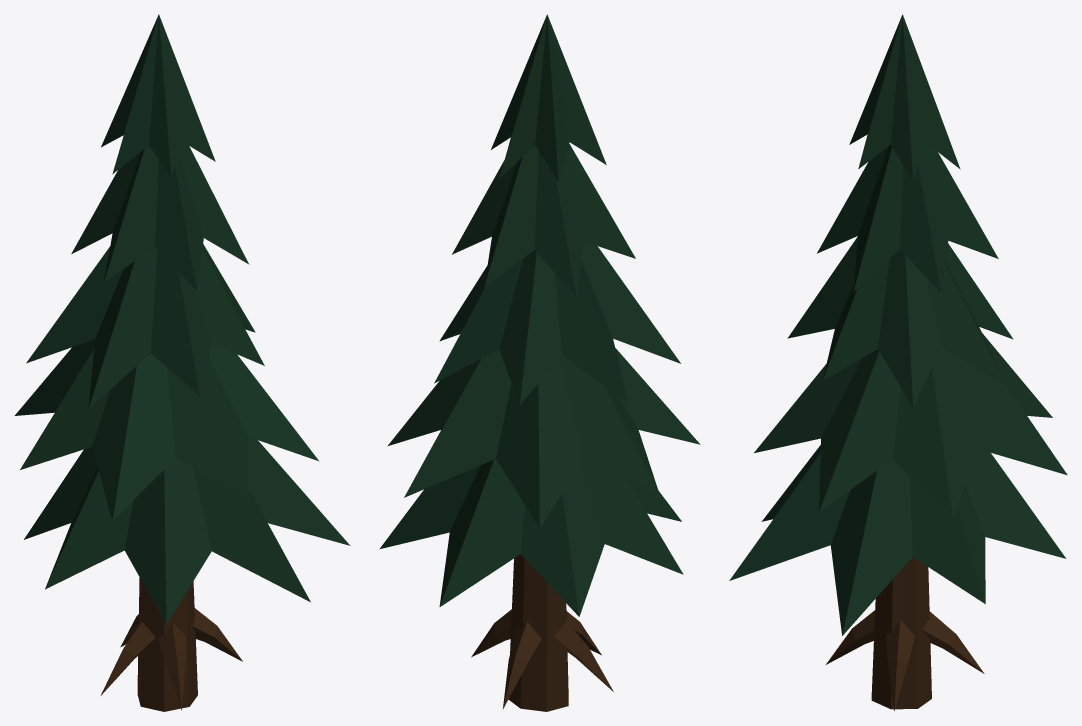
File: pino_c.fbx
3 renders of one model, left to right at view 1: azimuth 30°, elevation 25°; view 2: azimuth 150°, elevation 25°; view 3: azimuth 270°, elevation 25°, orthographic.
Visible parts, largest first — view 1: pino_c; view 2: pino_c; view 3: pino_c.
Part boxes in pixels (x1=…): pino_c: x1=14, y1=14, x2=350, y2=711; pino_c: x1=379, y1=14, x2=700, y2=711; pino_c: x1=729, y1=14, x2=1067, y2=710.
Bounding box in the file's own units: 2.78 × 6.37 × 2.88.
